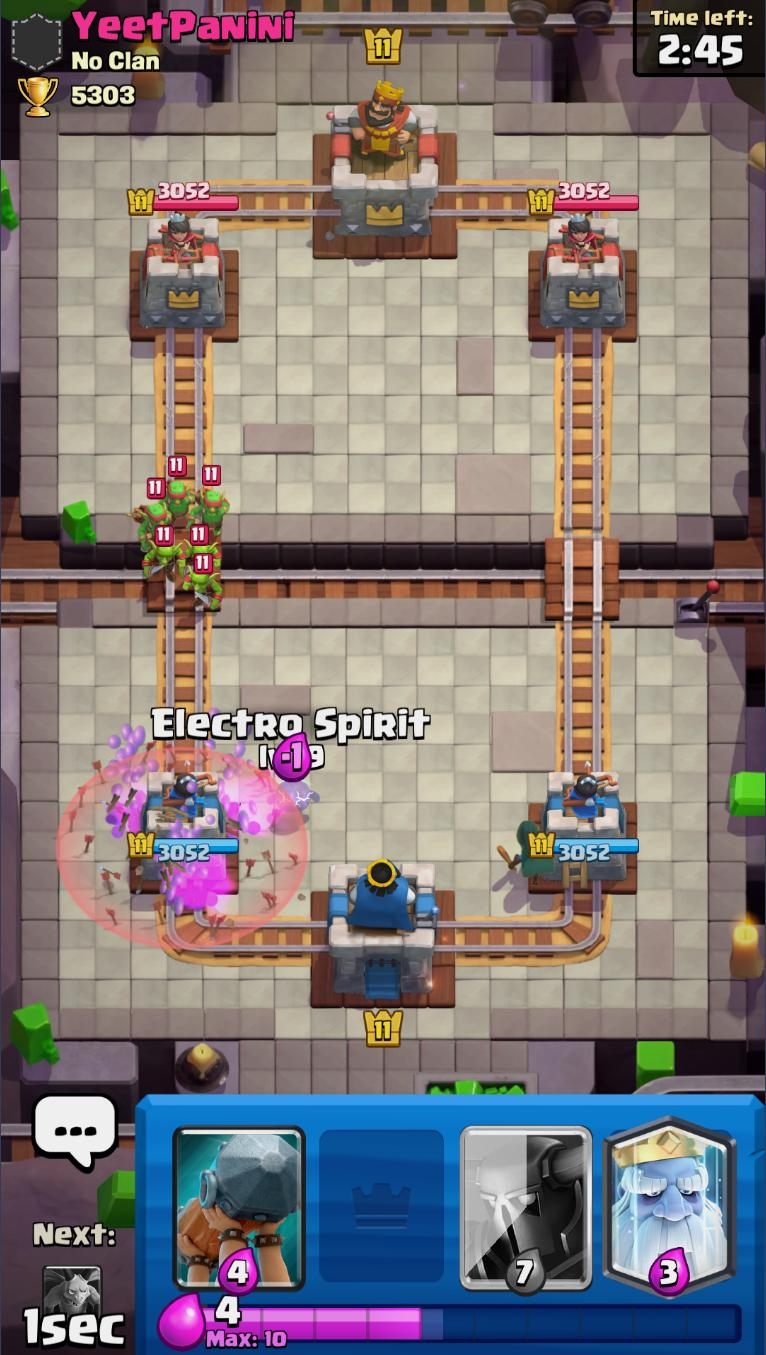Arrows: (58, 748, 307, 949)
BattleRamDeck: (167, 1095, 310, 1296)
Elixir: (203, 1295, 744, 1350)
Empty: (311, 1095, 455, 1296)
EnemyTower: (533, 208, 631, 331), (136, 214, 227, 331)
Goblin: (179, 555, 224, 617), (141, 524, 186, 583), (180, 525, 224, 571)
KingTower: (326, 78, 443, 243)
MinionsNext: (41, 1264, 103, 1343)
MyBandit: (496, 817, 551, 886)
MyKingTower: (326, 858, 440, 1000)
MyPrincessTower: (126, 768, 240, 886), (528, 770, 640, 886)
MyPrincessTowerHP: (126, 830, 239, 862), (527, 832, 640, 862)
PekkaDeck: (456, 1094, 598, 1295)
PrincessTower: (150, 214, 205, 270), (552, 213, 607, 267)
RoyaleGhostDeck: (600, 1094, 745, 1296)
SpearGoblin: (157, 454, 202, 524), (131, 478, 174, 547), (190, 464, 229, 536)
TowerPrincessHP: (527, 182, 640, 216), (127, 182, 240, 216)
